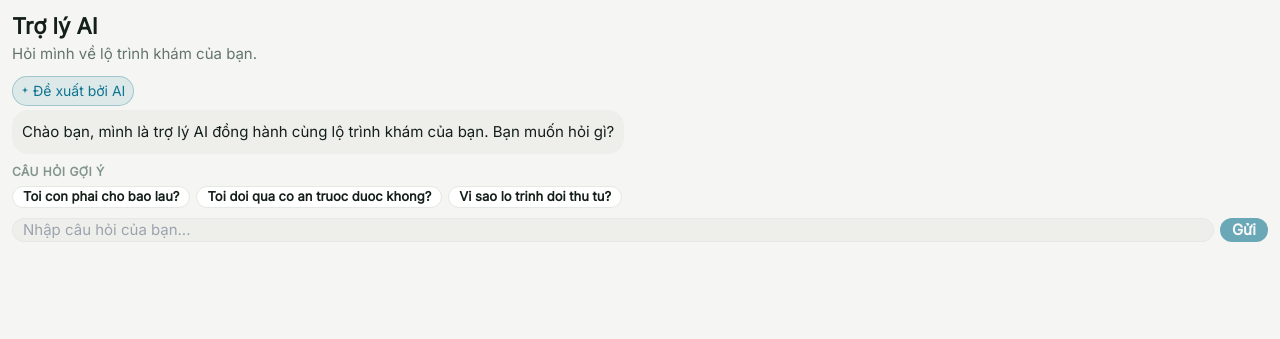
Scenario: AssistantPage (/assistant FAB chat) › tapping a quick question sends it as the message
Step 1. Click the button "Toi con phai cho bao lau?" → (101, 197), box x1=12 y1=186 x2=190 y2=208
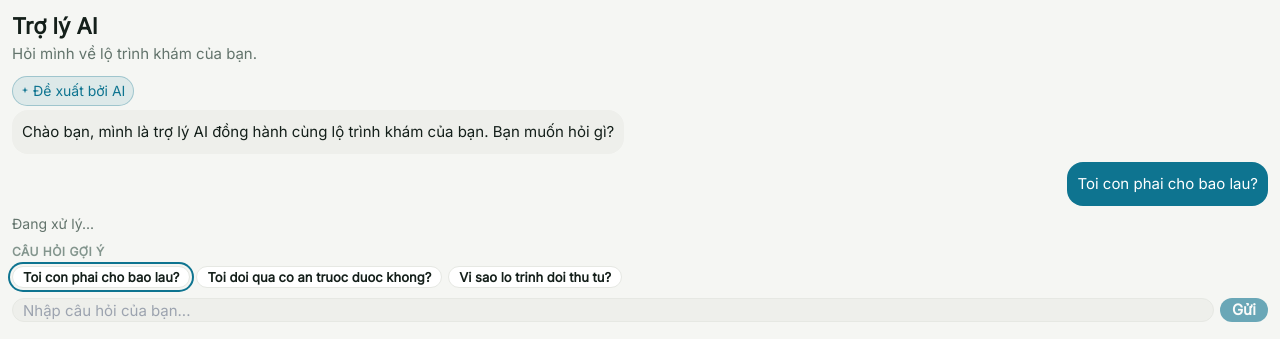
expect the text "Toi con phai cho bao lau?" is shown: met, box x1=1068 y1=162 x2=1268 y2=206
